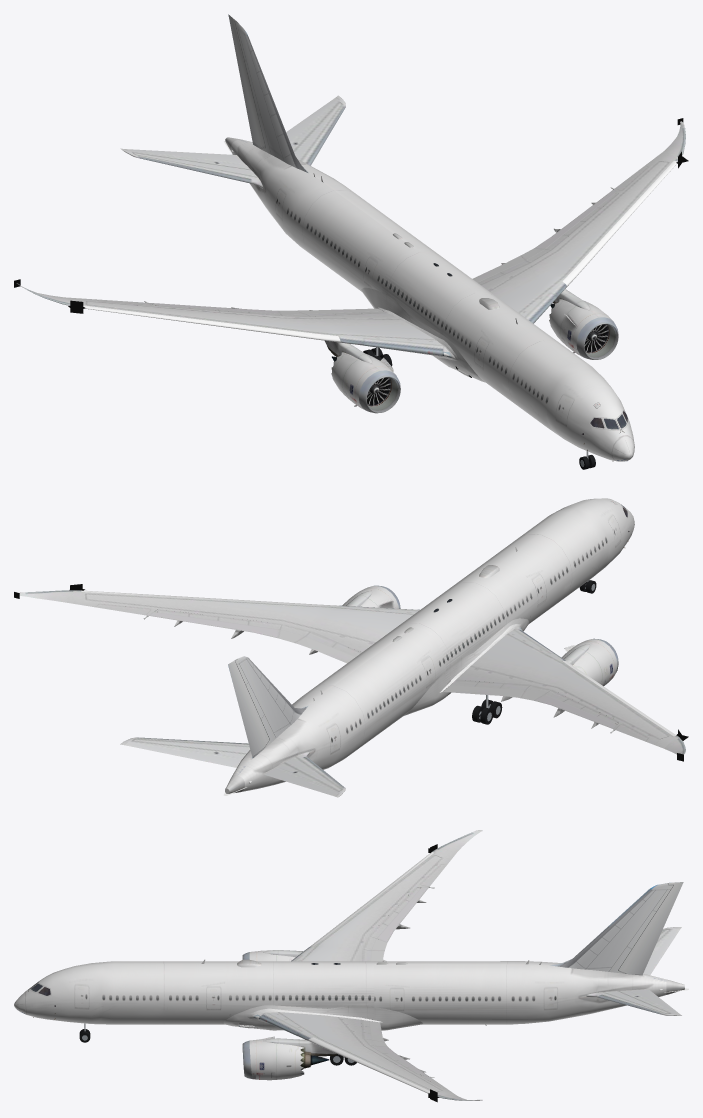
The picture shows the model from 3 angles, top to bottom: view 1: azimuth 30°, elevation 25°; view 2: azimuth 150°, elevation 25°; view 3: azimuth 270°, elevation 25°; orthographic projection. The views are drawn at different scales.
Visible parts, largest first — view 1: body; view 2: body, gear; view 3: body.
Part boxes in pixels (<box>): body: <box>14,14,688,461</box>; body: <box>14,498,688,797</box>; gear: <box>472,580,596,724</box>; body: <box>14,830,688,1102</box>.
Size of the model in its own units: 59.88 by 16.31 by 62.81.
Materials: 14 (4 with a texture image).
